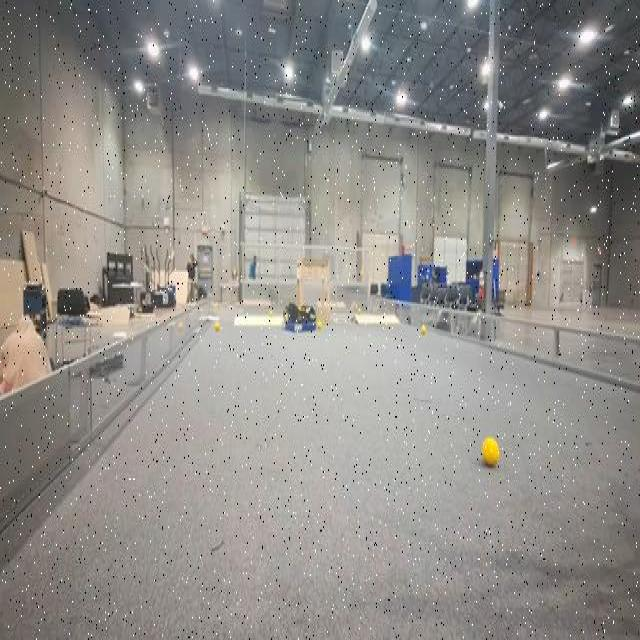Fuel: (481, 436, 500, 467), (482, 437, 499, 466), (317, 320, 323, 331), (421, 325, 427, 336), (214, 322, 219, 331), (178, 322, 183, 329)
